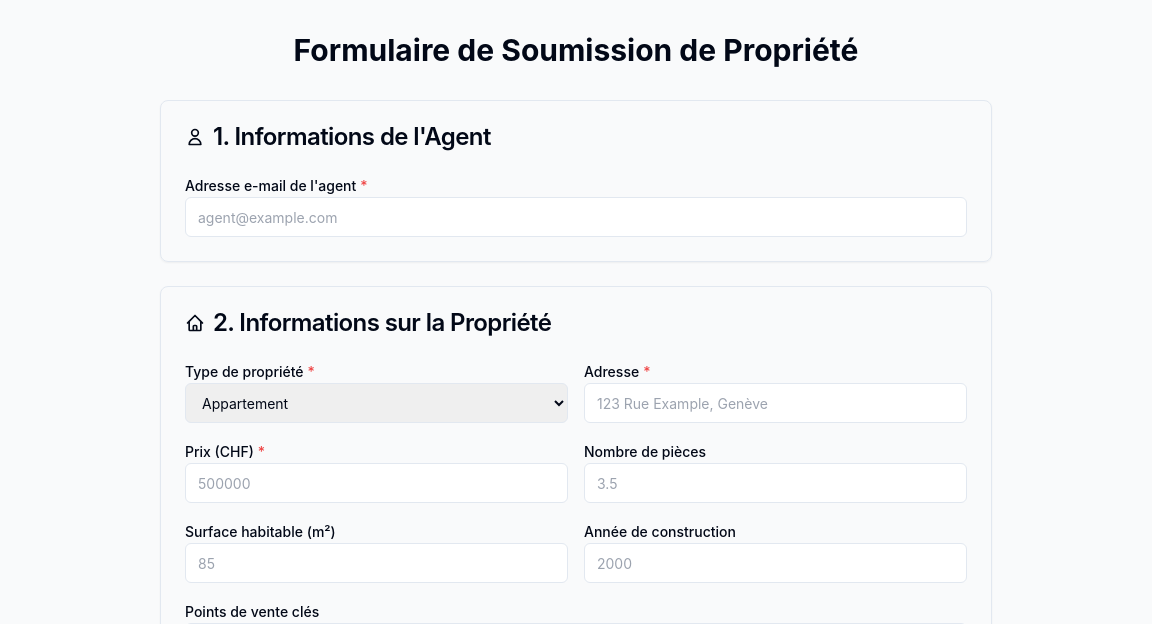
DossierForm Integration Tests › validates email format
Type "invalid-email" into the field labelled "Adresse e-mail de l'agent*" at coordinates (576, 217), box 185,197 -> 967,237
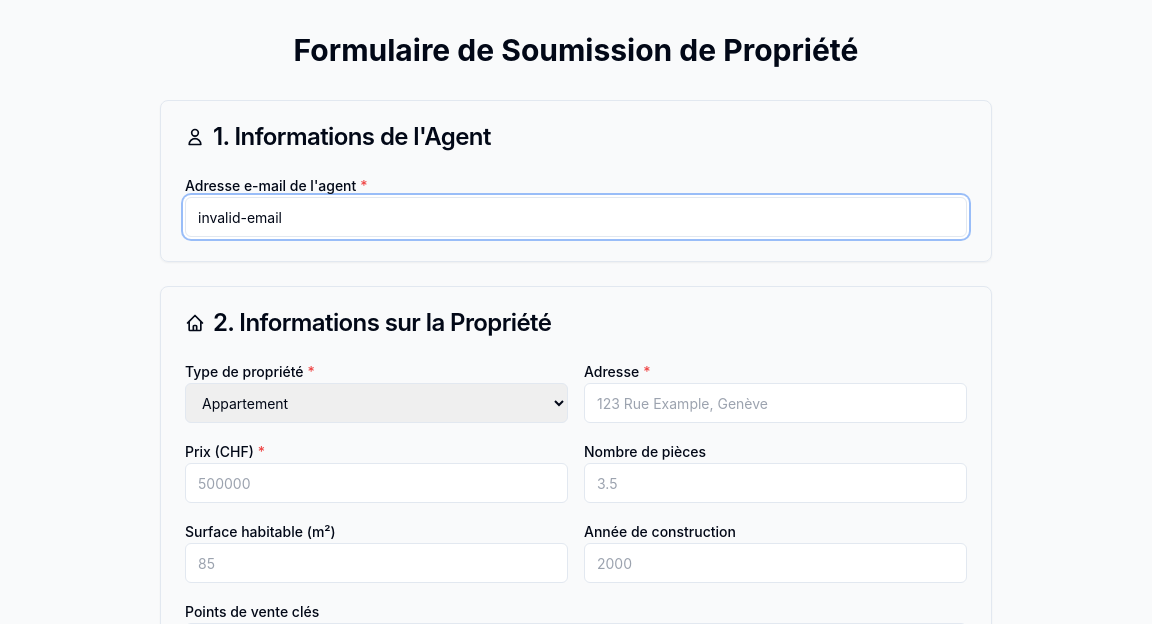
Press Tab
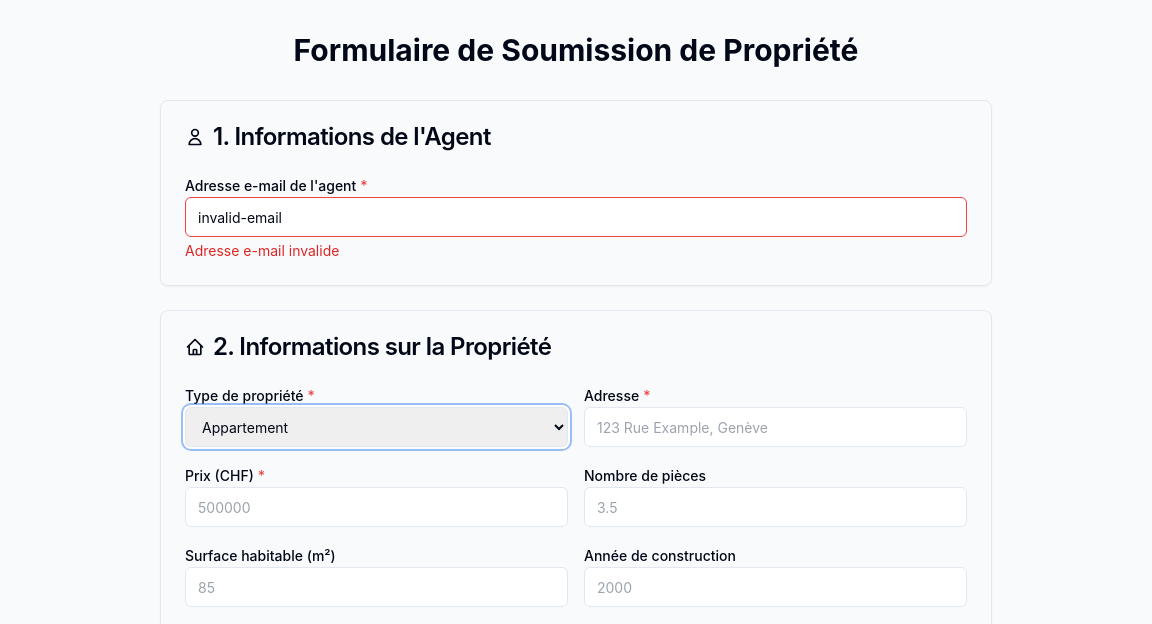
Expected: the text "Adresse e-mail invalide" is shown, 185,242 -> 339,259
